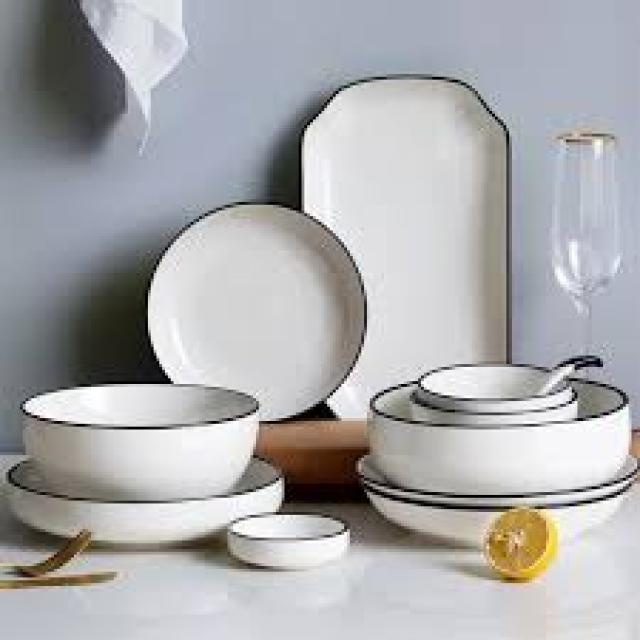Plate: (146, 199, 374, 423), (22, 377, 260, 494)
